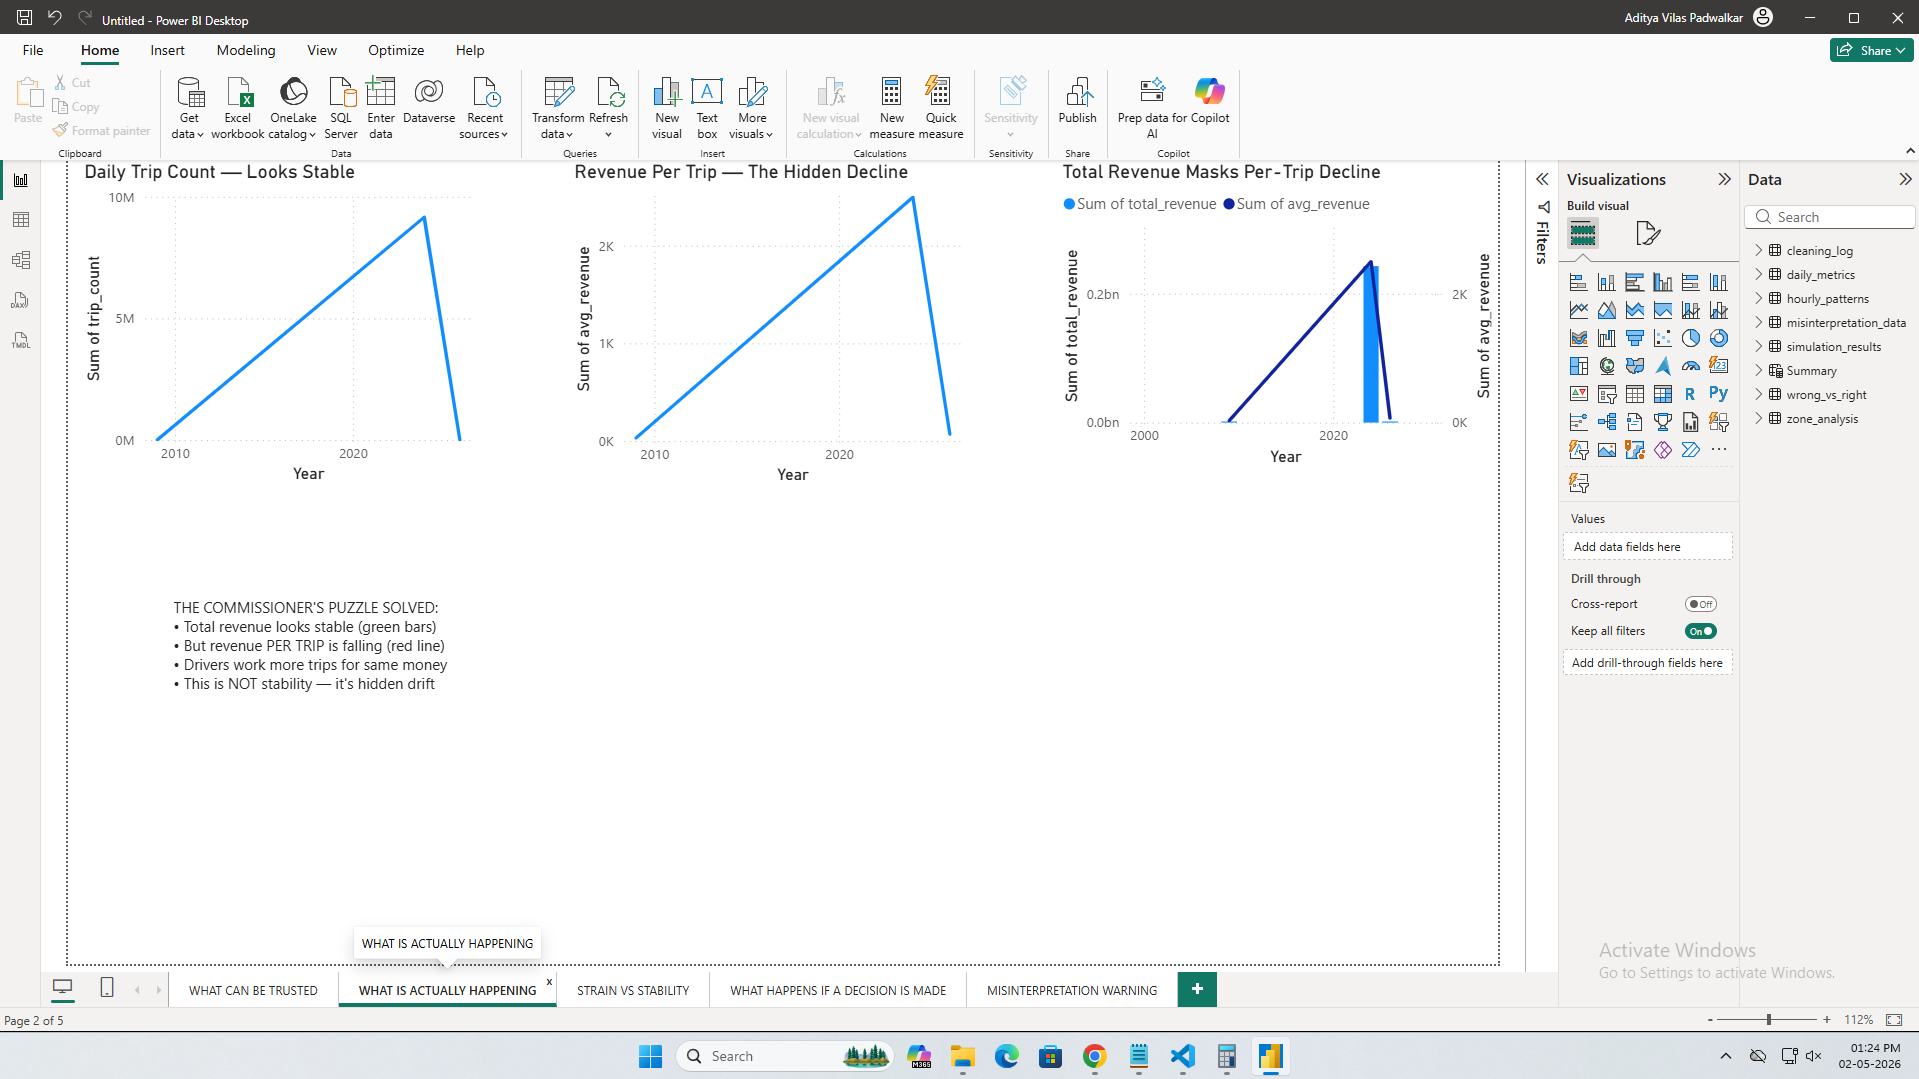

What the dashboard file says about the page in this screenshot:
{"tool":"powerbi","page":{"name":"WHAT IS ACTUALLY HAPPENING","canvas":[1280,720],"ordinal":1},"visuals":[{"type":"lineChart","title":"Daily Trip Count — Looks Stable","fields":{"Category":["daily_metrics.date.Variation.Date Hierarchy.Year","daily_metrics.date.Variation.Date Hierarchy.Quarter","daily_metrics.date.Variation.Date Hierarchy.Month","daily_metrics.date.Variation.Date Hierarchy.Day"],"Y":["Sum(daily_metrics.trip_count)"]},"box":[9.9,0,359.1,293.7],"z":0},{"type":"lineChart","title":"Revenue Per Trip — The Hidden Decline","fields":{"Category":["daily_metrics.date.Variation.Date Hierarchy.Year","daily_metrics.date.Variation.Date Hierarchy.Quarter","daily_metrics.date.Variation.Date Hierarchy.Month","daily_metrics.date.Variation.Date Hierarchy.Day"],"Y":["Sum(daily_metrics.avg_revenue)"]},"box":[448.7,0,359.1,294.6],"z":1},{"type":"lineClusteredColumnComboChart","title":"Total Revenue Masks Per-Trip Decline","fields":{"Category":["daily_metrics.date.Variation.Date Hierarchy.Year","daily_metrics.date.Variation.Date Hierarchy.Quarter","daily_metrics.date.Variation.Date Hierarchy.Month","daily_metrics.date.Variation.Date Hierarchy.Day"],"Y":["Sum(daily_metrics.total_revenue)"],"Y2":["Sum(daily_metrics.avg_revenue)"]},"box":[885.7,0,394,278.5],"z":2},{"type":"textbox","box":[89.6,386.9,359.1,115.5],"z":3}]}

Visuals, with their boxes on the page's 1280x720 design canvas (x1, y1, x2, y2). These are canvas units, not pixel positions in the 1919x1079 screenshot, which may show the page scaled, cropped or inside an application window:
"Daily Trip Count — Looks Stable" lineChart: [10, 0, 369, 294]
"Revenue Per Trip — The Hidden Decline" lineChart: [449, 0, 808, 295]
"Total Revenue Masks Per-Trip Decline" lineClusteredColumnComboChart: [886, 0, 1280, 278]
textbox: [90, 387, 449, 502]
